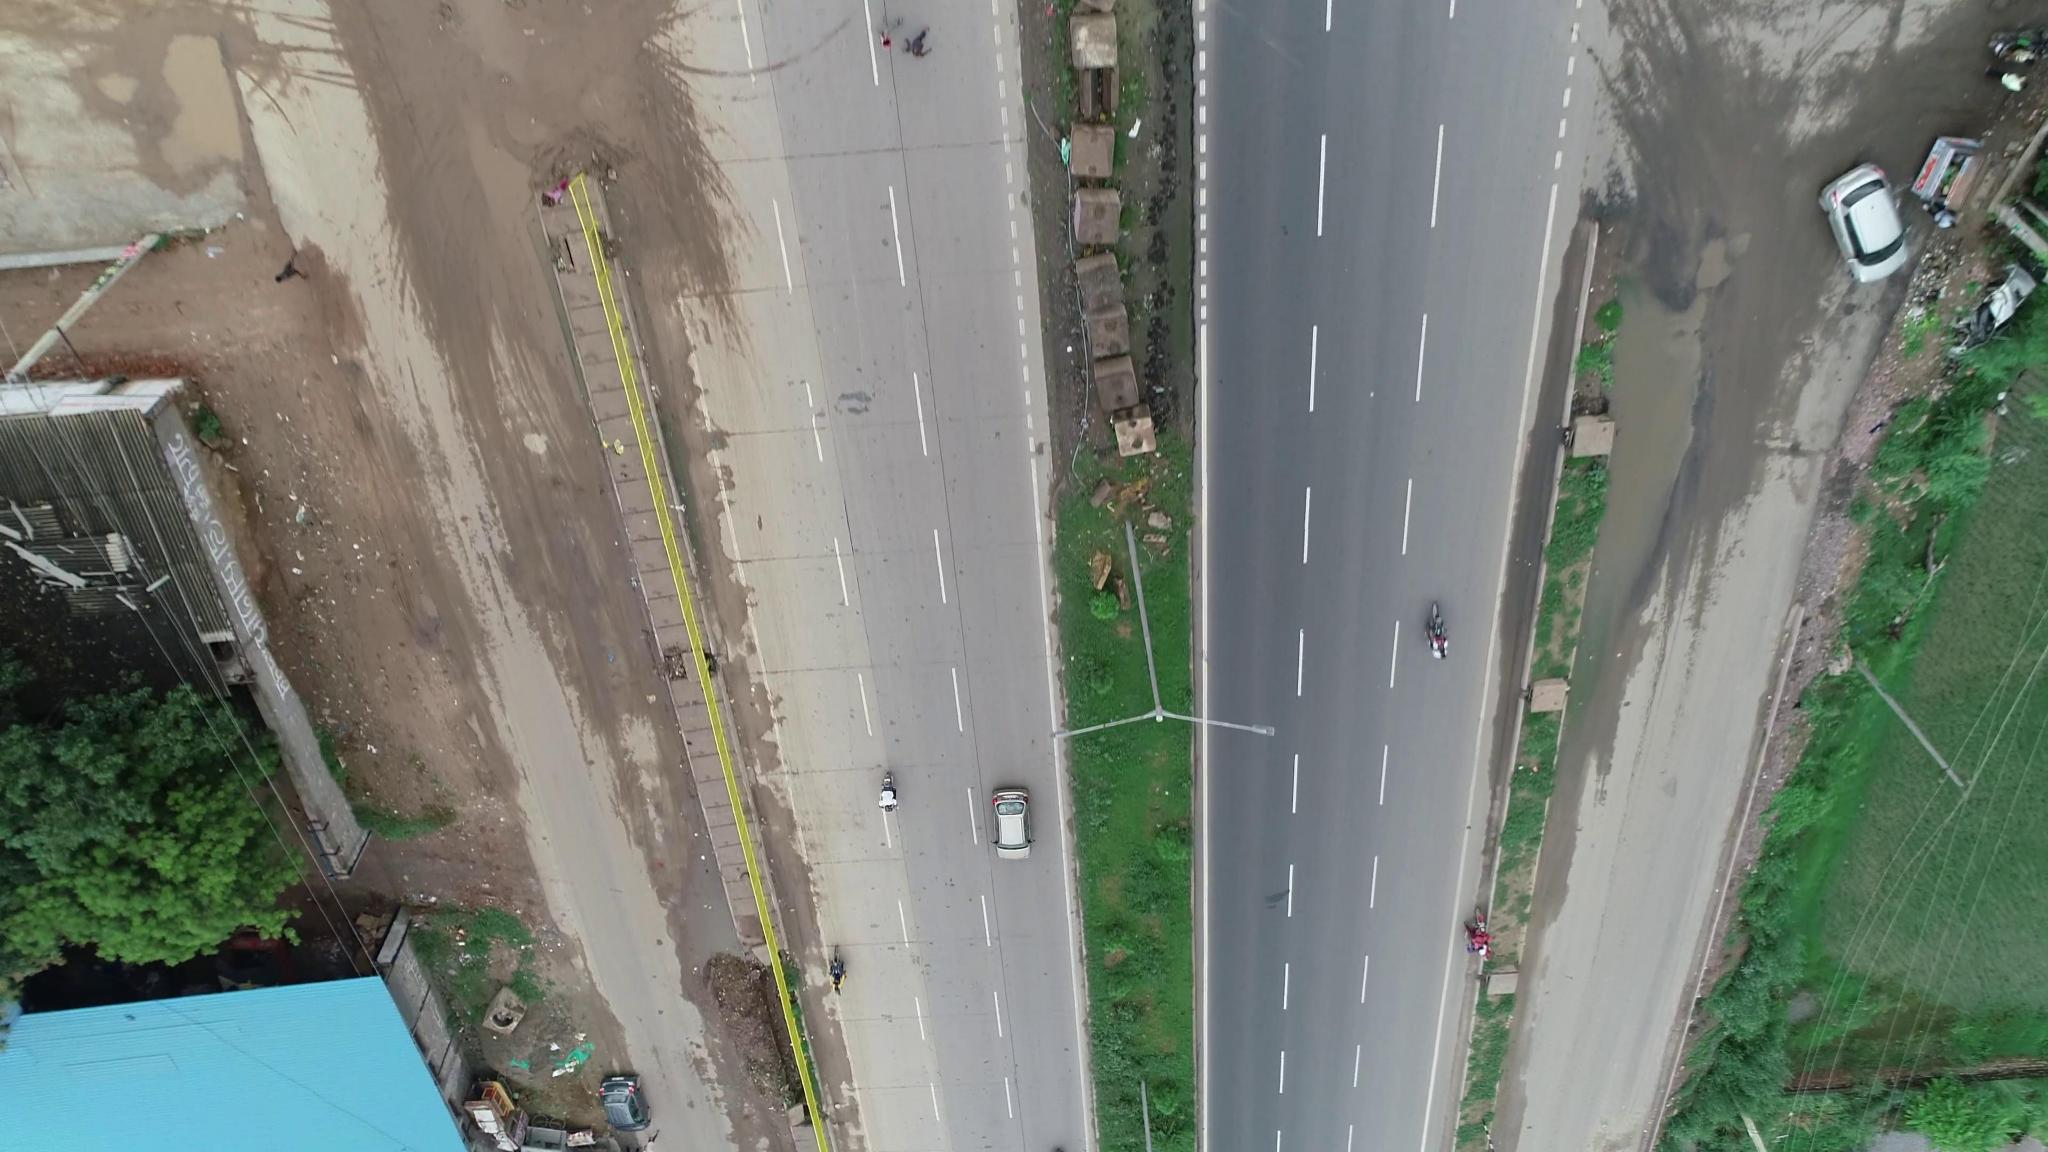Muddy_road: (473, 430, 622, 663)
Waterlogging: (1595, 269, 1732, 625)
